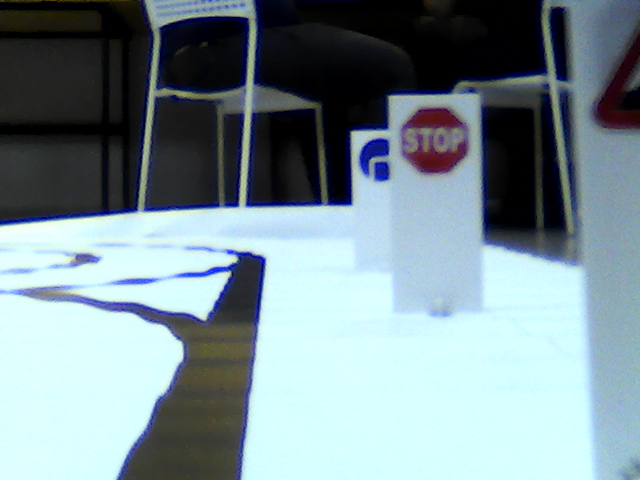Right: (358, 138, 392, 183)
Stop: (397, 103, 472, 177)
